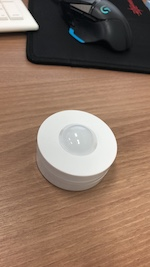bulb: (37, 110, 119, 192)
